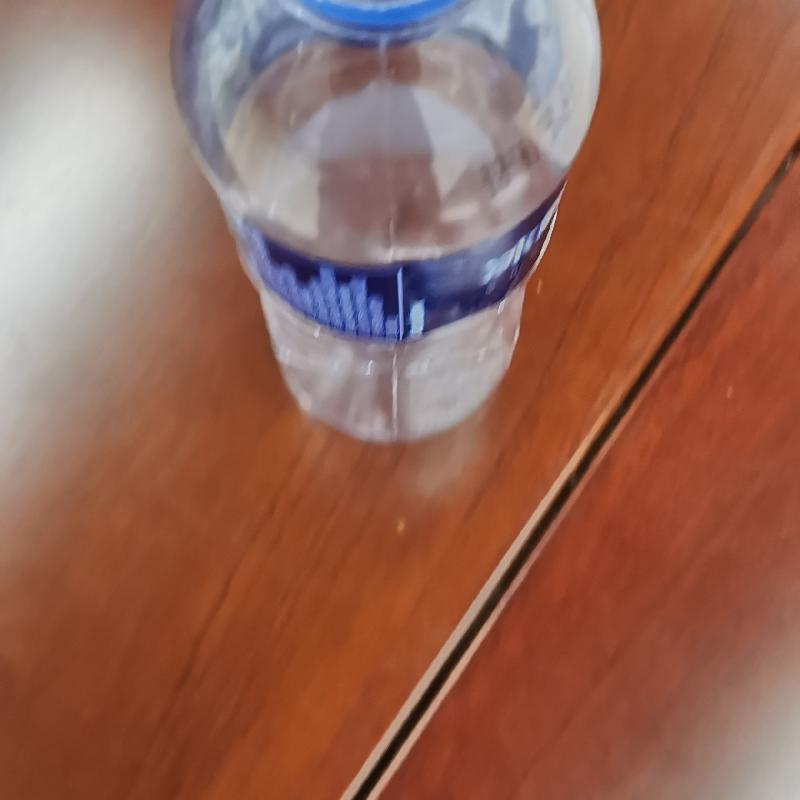bottles: (161, 2, 599, 452)
